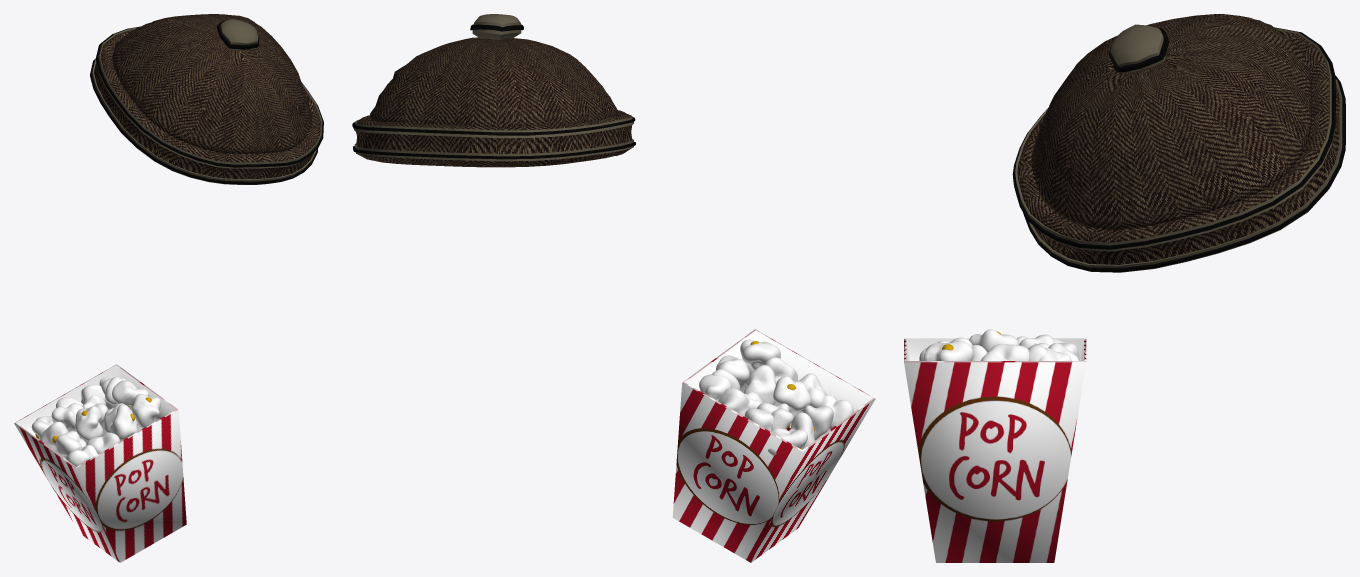
File: cinemaHat.glb
3 renders of one model, left to right at view 1: azimuth 30°, elevation 25°; view 2: azimuth 150°, elevation 25°; view 3: azimuth 270°, elevation 25°, orthographic. The views are drawn at different scales.
Parts seen in each view (by area): view 1: cap, Cube, Popcorn_1_2_2.015; view 2: cap, Cube, Popcorn_1_2_2.015; view 3: cap, Cube, Popcorn_1_2_2.015.
Part boxes in pixels (x1=…): cap: x1=90, y1=14, x2=323, y2=184; Cube: x1=14, y1=364, x2=186, y2=562; Popcorn_1_2_2.015: x1=31, y1=376, x2=160, y2=466; cap: x1=352, y1=14, x2=635, y2=167; Cube: x1=672, y1=329, x2=875, y2=562; Popcorn_1_2_2.015: x1=699, y1=339, x2=853, y2=455; cap: x1=1012, y1=14, x2=1345, y2=272; Cube: x1=904, y1=338, x2=1086, y2=562; Popcorn_1_2_2.015: x1=919, y1=329, x2=1080, y2=360.
Size of the model in its own units: 2.06 by 2.67 by 1.65.
Materials: 6 (2 with a texture image).
